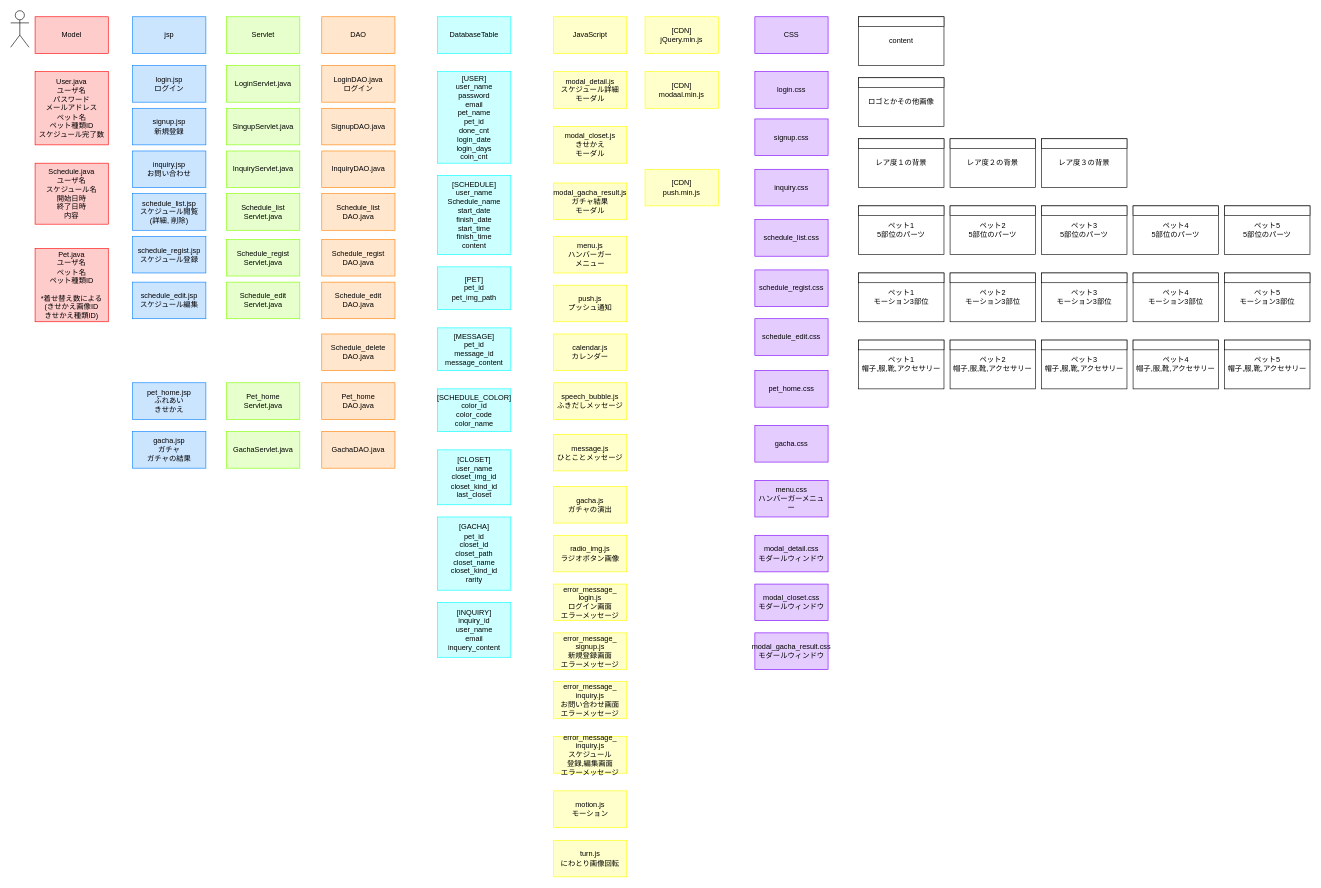
Some shapes in this 1321 by 888 pixel diagram are drawn without their labels. Each missing label, with the centre of its shape:
"Actor" goes at point (19, 28).
"img" goes at point (901, 82).
"imgbackgroung_rare1" goes at point (901, 143).
"imgbackgroung_rare2" goes at point (992, 143).
"imgbackgroung_rare3" goes at point (1084, 143).
"imgcloset1" goes at point (901, 344).
"imgcloset2" goes at point (992, 344).
"imgcloset3" goes at point (1084, 344).
"imgcloset4" goes at point (1175, 344).
"imgcloset5" goes at point (1267, 344).
"imgfolder" goes at point (901, 21).
"imgmotion1" goes at point (901, 277).
"imgmotion2" goes at point (992, 277).
"imgmotion3" goes at point (1084, 277).
"imgmotion4" goes at point (1175, 277).
"imgmotion5" goes at point (1267, 277).
"imgpet1" goes at point (901, 210).
"imgpet2" goes at point (992, 210).
"imgpet3" goes at point (1084, 210).
"imgpet4" goes at point (1175, 210).
"imgpet5" goes at point (1267, 210).
